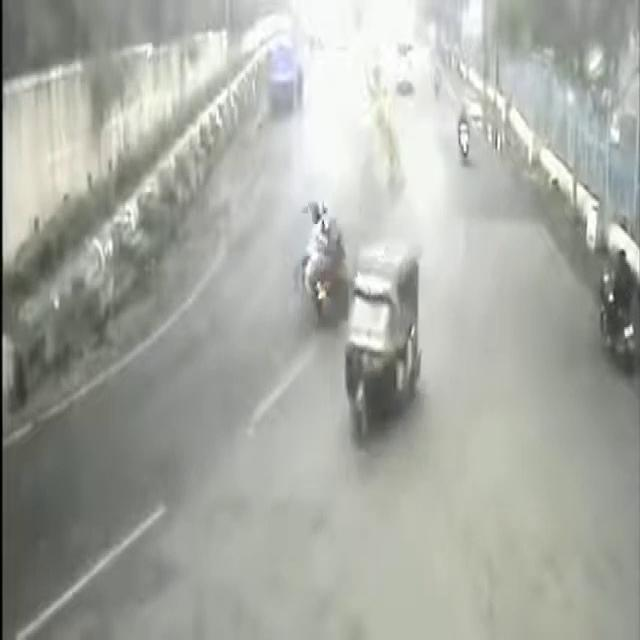accident: (285, 182, 351, 334)
